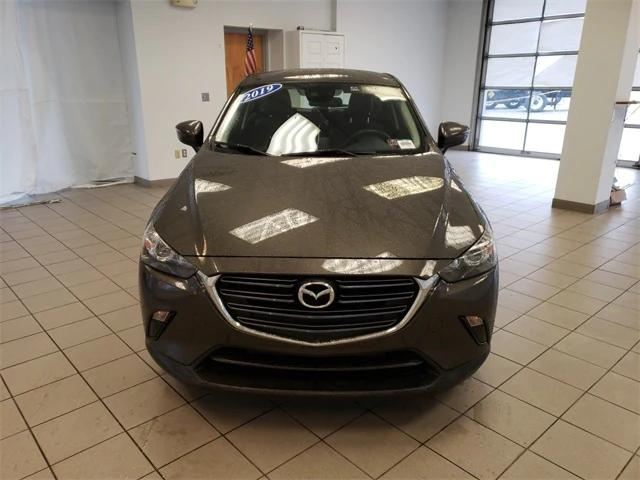Mazda3 Hatchback: (138, 67, 500, 413)
